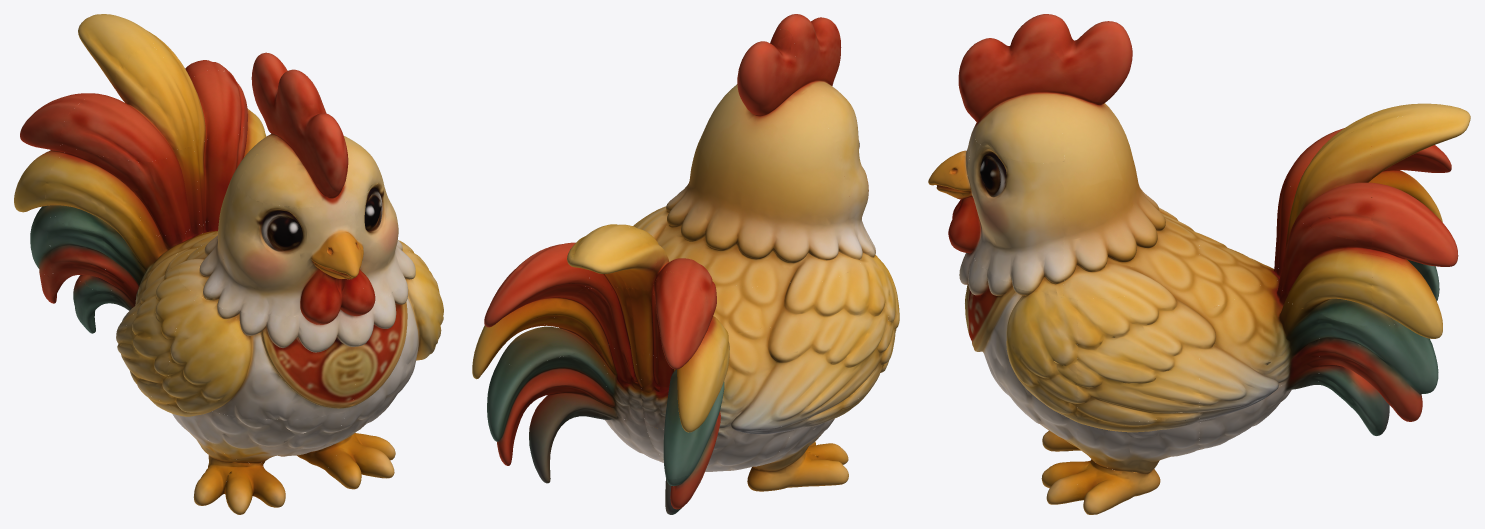
File: hi3d-zodiac-rooster-web.glb
The picture shows the model from 3 angles, left to right: view 1: azimuth 30°, elevation 25°; view 2: azimuth 150°, elevation 25°; view 3: azimuth 270°, elevation 25°; orthographic projection. The views are drawn at different scales.
Parts seen in each view (by area): view 1: zodiac_rooster_mesh_01; view 2: zodiac_rooster_mesh_01; view 3: zodiac_rooster_mesh_01.
Part boxes in pixels (x1,y1,x2,y2): zodiac_rooster_mesh_01: [14, 14, 443, 514]; zodiac_rooster_mesh_01: [472, 14, 899, 514]; zodiac_rooster_mesh_01: [928, 14, 1470, 514].
Bounding box in the file's own units: 0.5963 × 0.9 × 1.
Materials: 1 (1 with a texture image).
